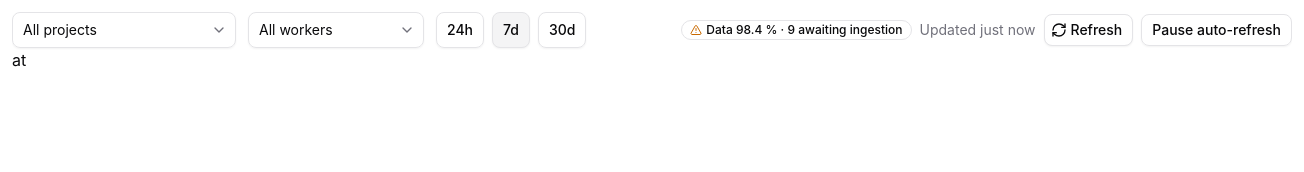
Test case: FlowToolbar › shows Not refreshed since the last read and keeps the data after a failed later read
Check: the link "Data 98.4 % · 9 awaiting ingestion" is shown, box [681,20,912,40]
Check: the text "Not refreshed since" is not shown
Click the button "Refresh" at {"x": 1088, "y": 30}, box [1044,14,1133,46]
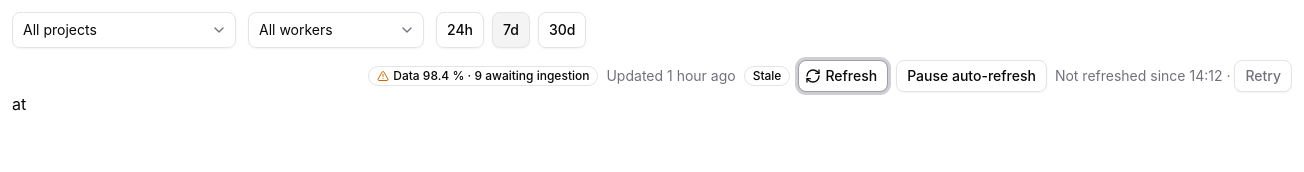
Check: the link "Data 98.4 % · 9 awaiting ingestion" is shown, box [368,66,598,86]
Click the button "Retry" at {"x": 1263, "y": 76}, box [1234,60,1292,92]
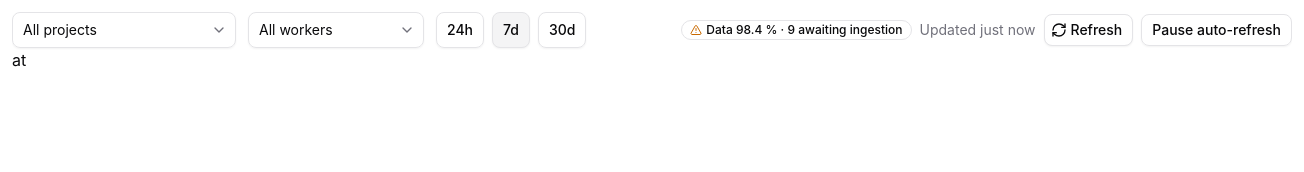
Check: the link "Data 98.4 % · 9 awaiting ingestion" is shown, box [681,20,912,40]
Check: the text "Not refreshed since" is gone
